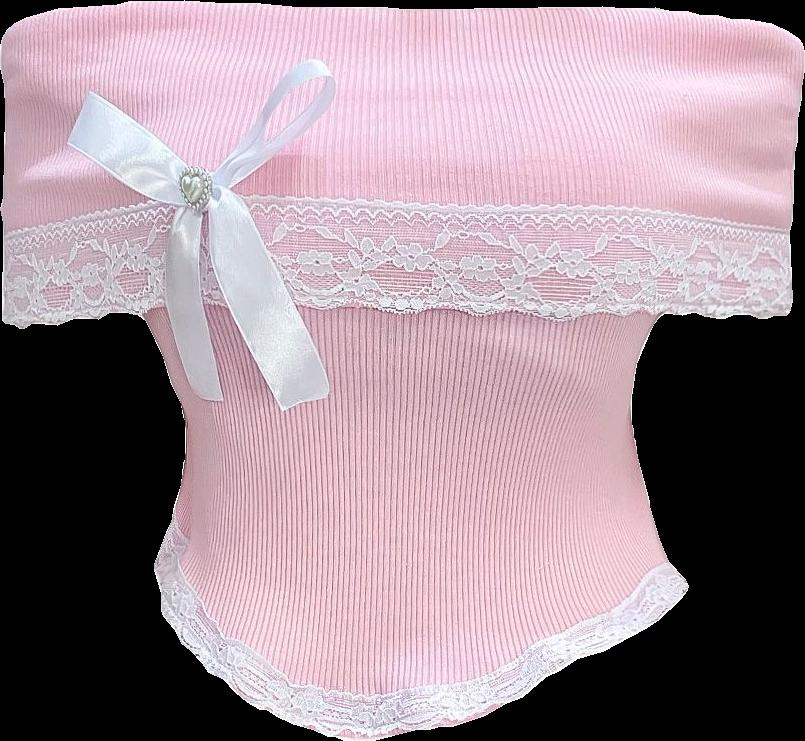Bodice: (1, 2, 804, 740)
Neckline: (0, 0, 804, 47)
Waistline: (148, 561, 696, 740), (0, 293, 794, 325)
